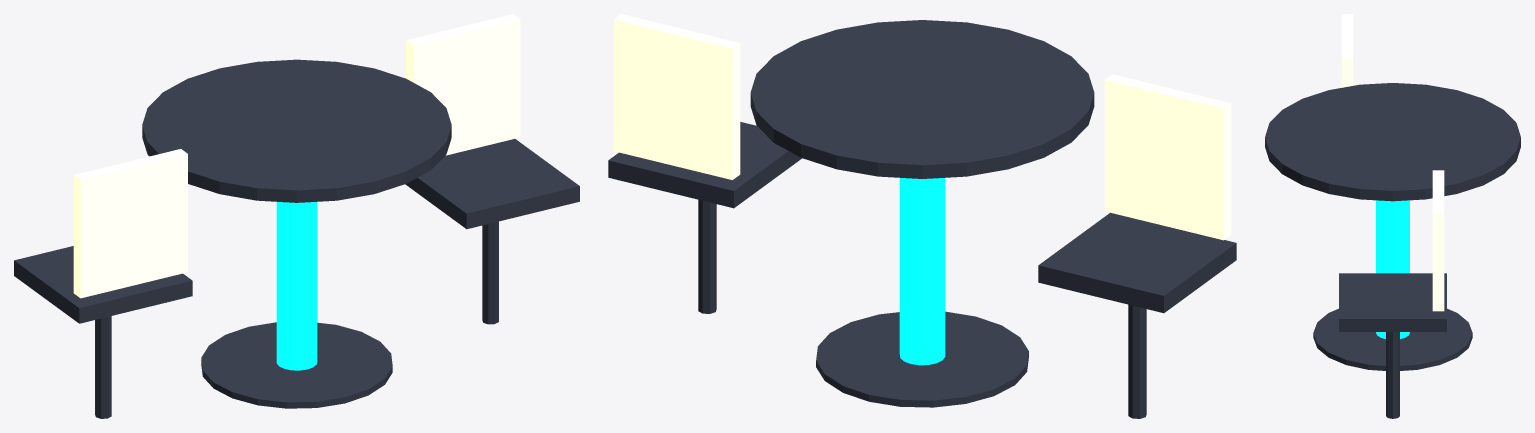
Rendered from WiredCafe_TerraceSet.fbx.
3 views of the same model, side by side, from view 1: azimuth 30°, elevation 25°; view 2: azimuth 150°, elevation 25°; view 3: azimuth 270°, elevation 25° (orthographic). The views are drawn at different scales.
Visible parts, largest first — view 1: CafeTable_Top, CafeChair_Back_1, CafeTable_Base, CafeChair_Back_2, CafeChair_Seat_2, CafeTable_Pole, CafeChair_Seat_1, CafeChair_Legs_2, CafeChair_Legs_1; view 2: CafeTable_Top, CafeChair_Back_1, CafeChair_Back_2, CafeTable_Base, CafeChair_Seat_1, CafeTable_Pole, CafeChair_Seat_2, CafeChair_Legs_1, CafeChair_Legs_2; view 3: CafeTable_Top, CafeChair_Seat_2, CafeTable_Base, CafeTable_Pole, CafeChair_Back_2, CafeChair_Legs_2, CafeChair_Back_1.
Part boxes in pixels (x1,y1,x2,y2): CafeTable_Top: [142, 59, 451, 202]; CafeChair_Back_1: [73, 149, 187, 298]; CafeTable_Base: [201, 322, 392, 408]; CafeChair_Back_2: [406, 14, 520, 155]; CafeChair_Seat_2: [405, 139, 579, 229]; CafeTable_Pole: [276, 202, 317, 370]; CafeChair_Seat_1: [14, 246, 192, 323]; CafeChair_Legs_2: [482, 221, 498, 324]; CafeChair_Legs_1: [95, 316, 111, 418]; CafeTable_Top: [750, 20, 1094, 178]; CafeChair_Back_1: [1104, 74, 1231, 240]; CafeChair_Back_2: [613, 14, 740, 179]; CafeTable_Base: [816, 311, 1028, 407]; CafeChair_Seat_1: [1038, 212, 1236, 313]; CafeTable_Pole: [899, 178, 945, 365]; CafeChair_Seat_2: [608, 122, 801, 208]; CafeChair_Legs_1: [1128, 304, 1146, 418]; CafeChair_Legs_2: [698, 199, 716, 313]; CafeTable_Top: [1265, 83, 1520, 201]; CafeChair_Seat_2: [1339, 273, 1446, 331]; CafeTable_Base: [1313, 308, 1472, 370]; CafeTable_Pole: [1376, 200, 1409, 338]; CafeChair_Back_2: [1432, 170, 1444, 311]; CafeChair_Legs_2: [1386, 332, 1399, 418]; CafeChair_Back_1: [1341, 14, 1353, 87].
Size of what is drawn, in the model's own units: 1.68 by 0.87 by 0.9.
